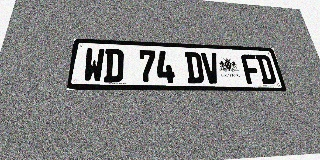4: (156, 51, 175, 83)
7: (138, 50, 157, 83)
D: (103, 49, 124, 83), (184, 52, 205, 83), (255, 55, 277, 84)
F: (240, 54, 262, 84)
V: (201, 52, 221, 84)
W: (82, 48, 105, 82)
